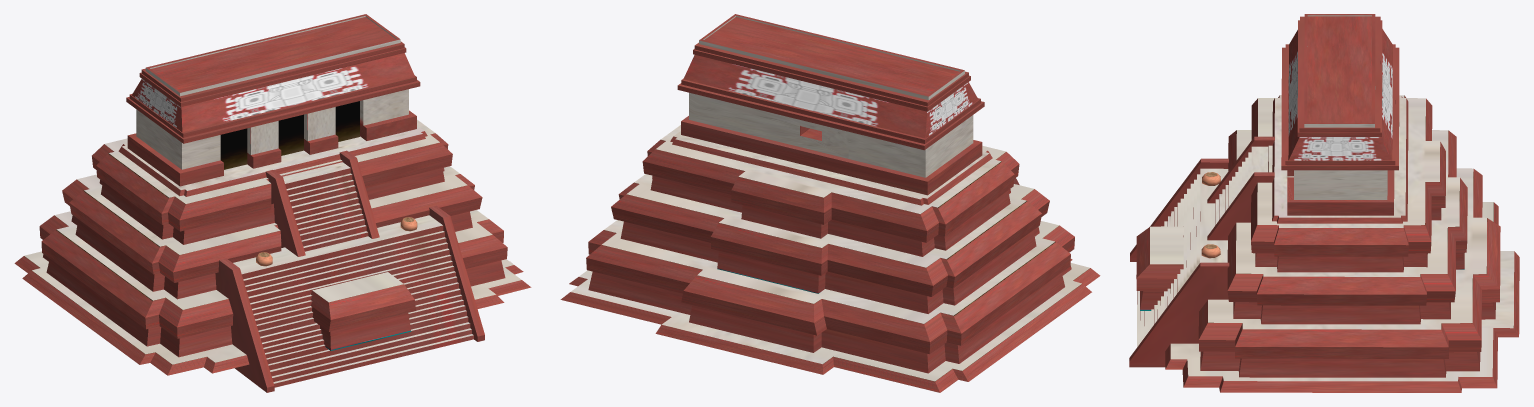
File: piramide_4.dae
3 views of the same model, side by side, from view 1: azimuth 30°, elevation 25°; view 2: azimuth 150°, elevation 25°; view 3: azimuth 270°, elevation 25° (orthographic). The views are drawn at different scales.
Parts seen in each view (by area): view 1: p_4; view 2: p_4; view 3: p_4.
Boxes of the visible parts, x1,y1,x2,y2 form: p_4: (14,14,531,392); p_4: (560,14,1100,392); p_4: (1129,14,1519,392).
Bounding box in the file's own units: 29.62 × 25.47 × 17.55.
